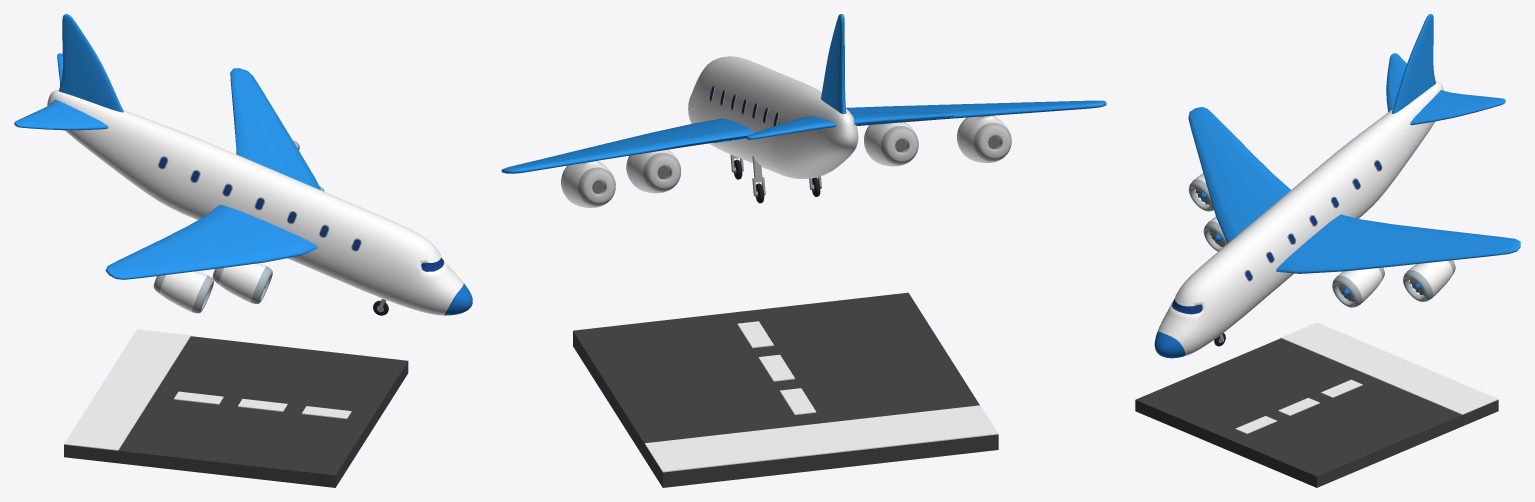
The model's file is airplane_arrival.fbx.
The picture shows the model from 3 angles, left to right: view 1: azimuth 30°, elevation 25°; view 2: azimuth 150°, elevation 25°; view 3: azimuth 270°, elevation 25°; orthographic projection. The views are drawn at different scales.
Visible parts, largest first — view 1: Cube.799; view 2: Cube.799; view 3: Cube.799.
Part boxes in pixels (x1,y1,x2,y2): Cube.799: (14, 14, 472, 487); Cube.799: (501, 14, 1106, 487); Cube.799: (1135, 14, 1520, 487).
Size of the model in its own units: 210 by 210 by 210.
Materials: 1 (1 with a texture image).
